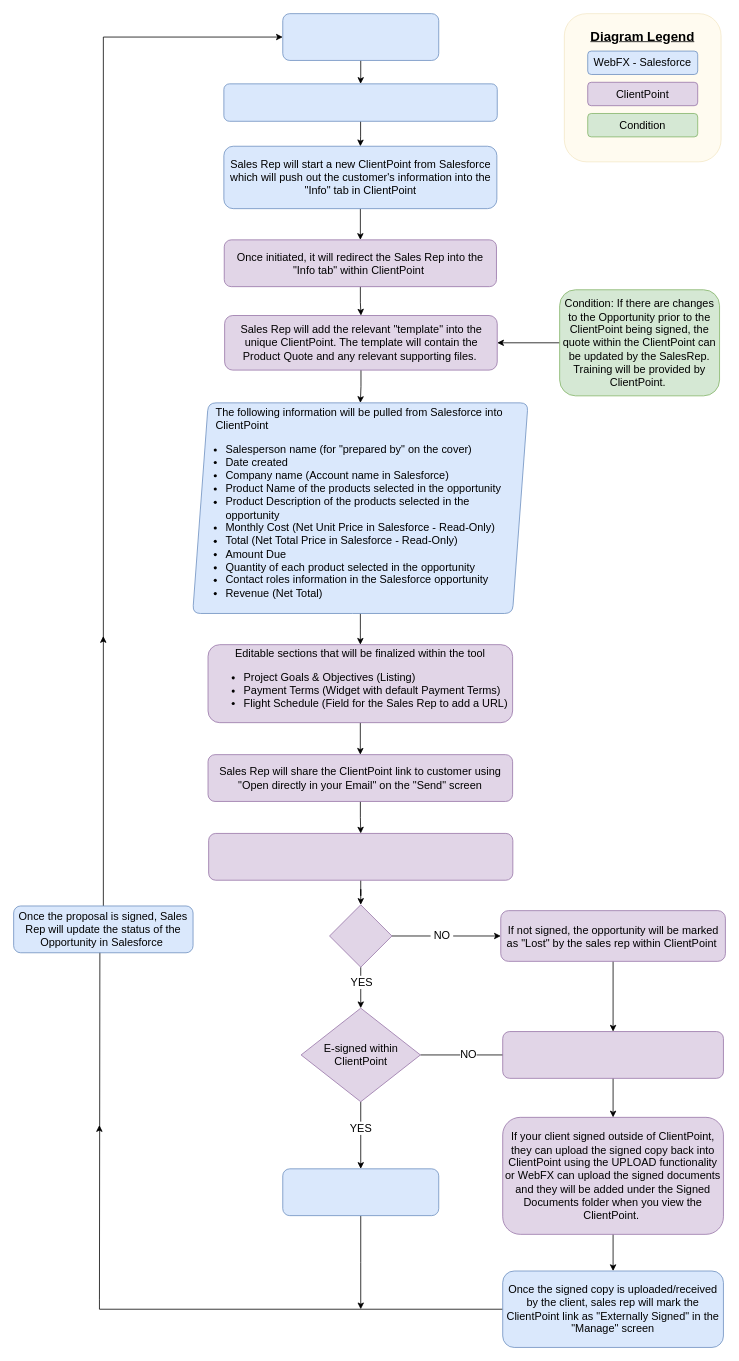
The diagram is 739 pixels wide and 1361 high, and some of its shapes have lost their labels. The centre of each missing label's shape, as x and y in pixels:
ClientPoint is accepted/signed by the customer: pixel 360 856
ClientPoint link will set Status as "Won" and View Status as "Signed": pixel 360 1192
Customer will download PDF/print the proposal files: pixel 612 1054
Sales Rep will create a new opportunity in Salesforce: pixel 360 102
Signed?: pixel 360 935
WebFX - Salesforce Opportunity: pixel 360 36
